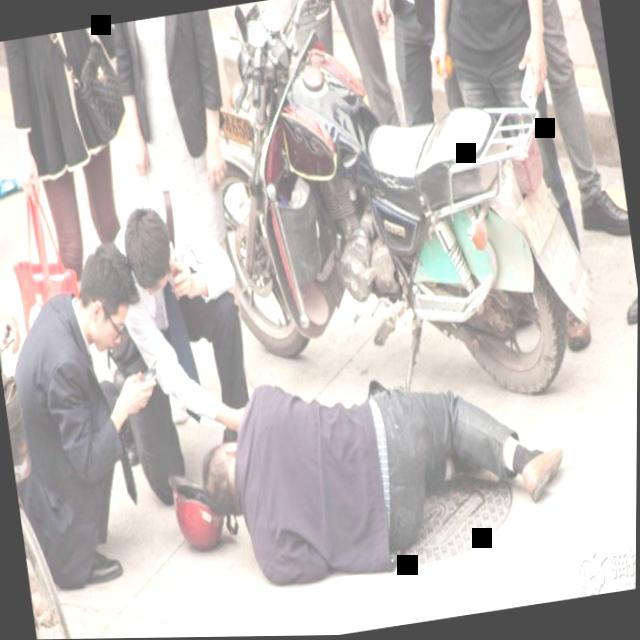Fall-Detected: (160, 317, 588, 610)
